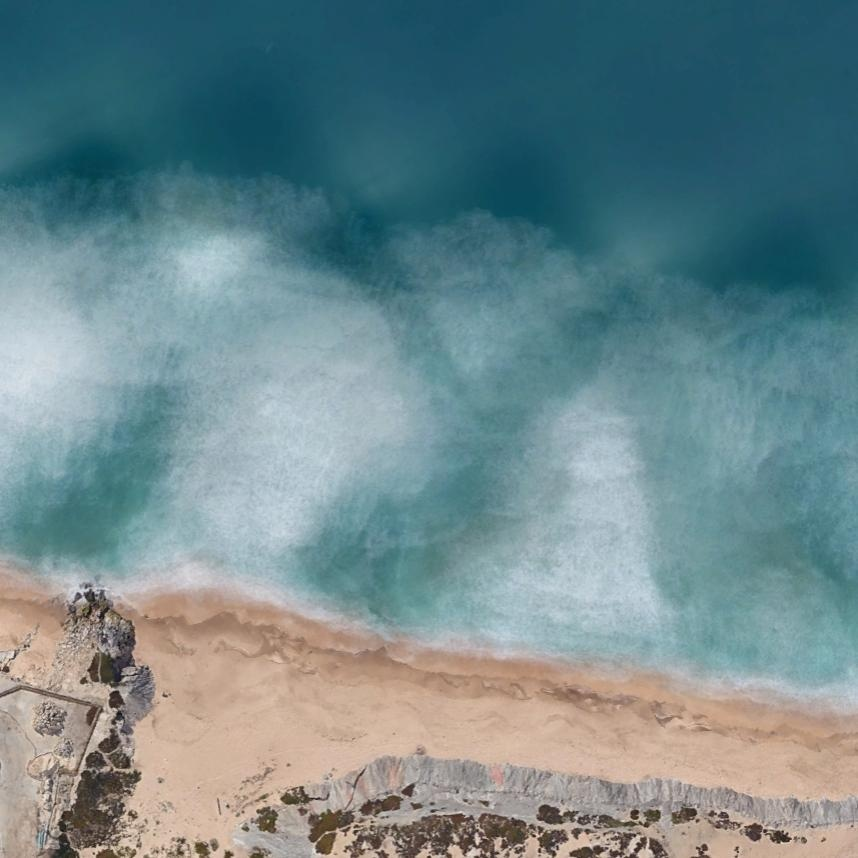rip_current: (292, 222, 574, 621)
